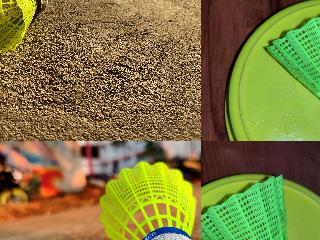shuttlecock: (99, 159, 200, 239), (263, 0, 319, 140), (201, 175, 306, 239), (0, 0, 48, 53)
